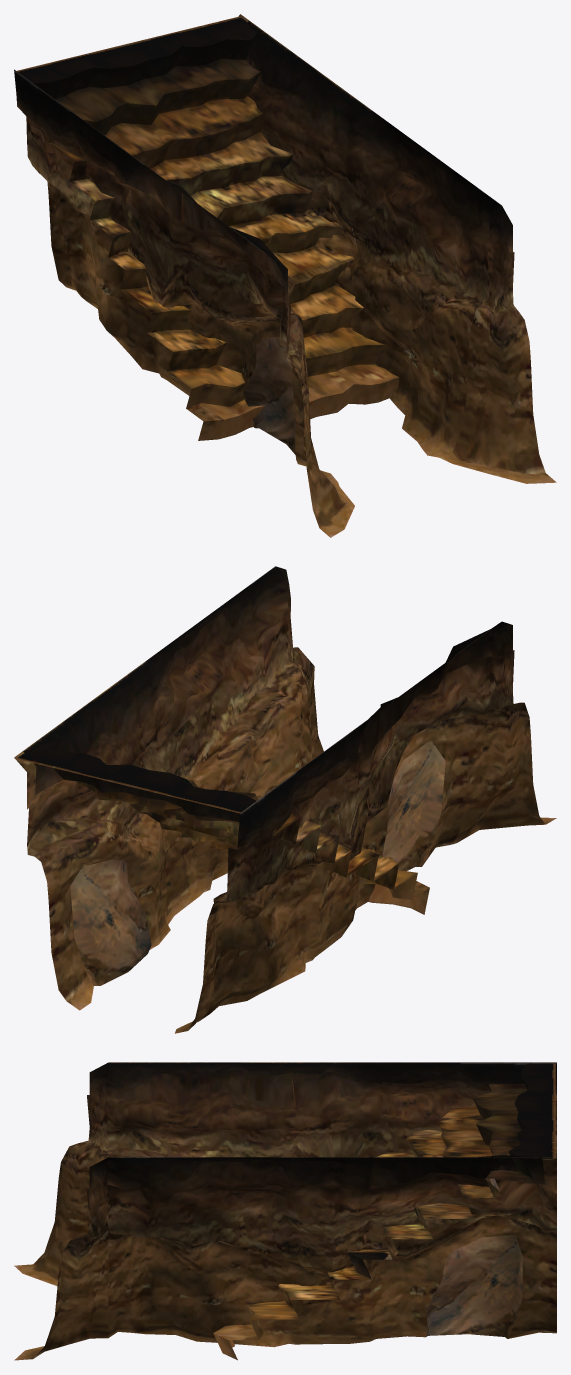
Rendered from tunnelStairsC.fbx.
3 views of the same model, one above another, from view 1: azimuth 30°, elevation 25°; view 2: azimuth 150°, elevation 25°; view 3: azimuth 270°, elevation 25° (orthographic). The views are drawn at different scales.
Visible parts, largest first — view 1: tunnelStairsC; view 2: tunnelStairsC; view 3: tunnelStairsC.
Boxes of the visible parts, left/top/right/bottom form: tunnelStairsC: left=14, top=14, right=556, bottom=537; tunnelStairsC: left=14, top=566, right=556, bottom=1033; tunnelStairsC: left=14, top=1062, right=556, bottom=1360.
Bounding box in the file's own units: 303 × 300 × 726.
